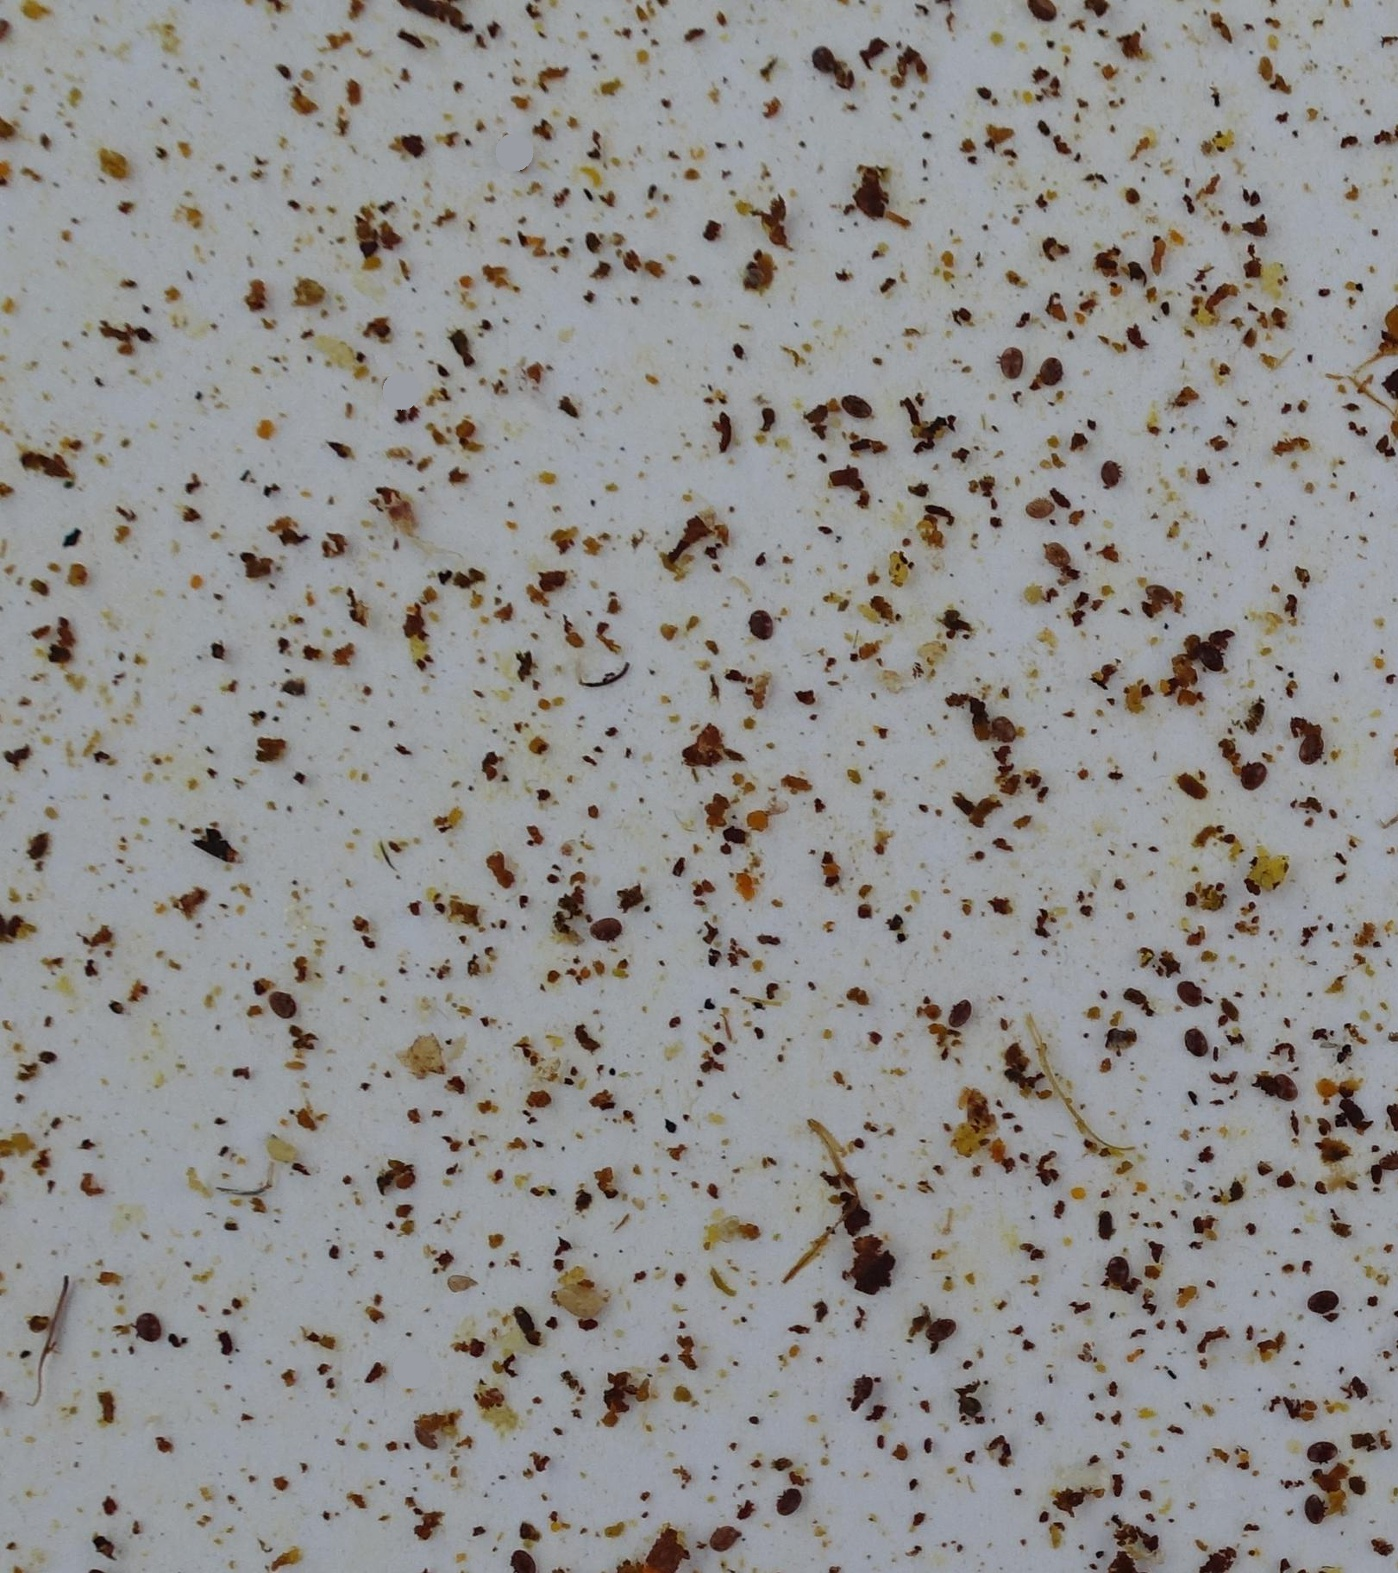Varroa: (1038, 533, 1077, 572), (702, 1518, 741, 1557), (941, 994, 978, 1033), (775, 1477, 811, 1516), (918, 1317, 954, 1350), (1181, 1025, 1213, 1059), (130, 1315, 162, 1346), (1308, 1282, 1339, 1313), (1294, 1497, 1325, 1528), (1235, 749, 1266, 780), (590, 915, 622, 944), (1294, 733, 1324, 765), (1308, 1437, 1339, 1466), (1196, 639, 1225, 670), (1264, 1077, 1295, 1106), (985, 711, 1015, 741), (996, 347, 1026, 376), (843, 391, 873, 420), (1035, 359, 1063, 389), (1143, 580, 1173, 608), (810, 45, 837, 76), (1111, 1252, 1138, 1280), (1098, 460, 1124, 487), (746, 604, 772, 631), (1024, 490, 1051, 515), (269, 1000, 294, 1025), (1181, 985, 1206, 1010)
